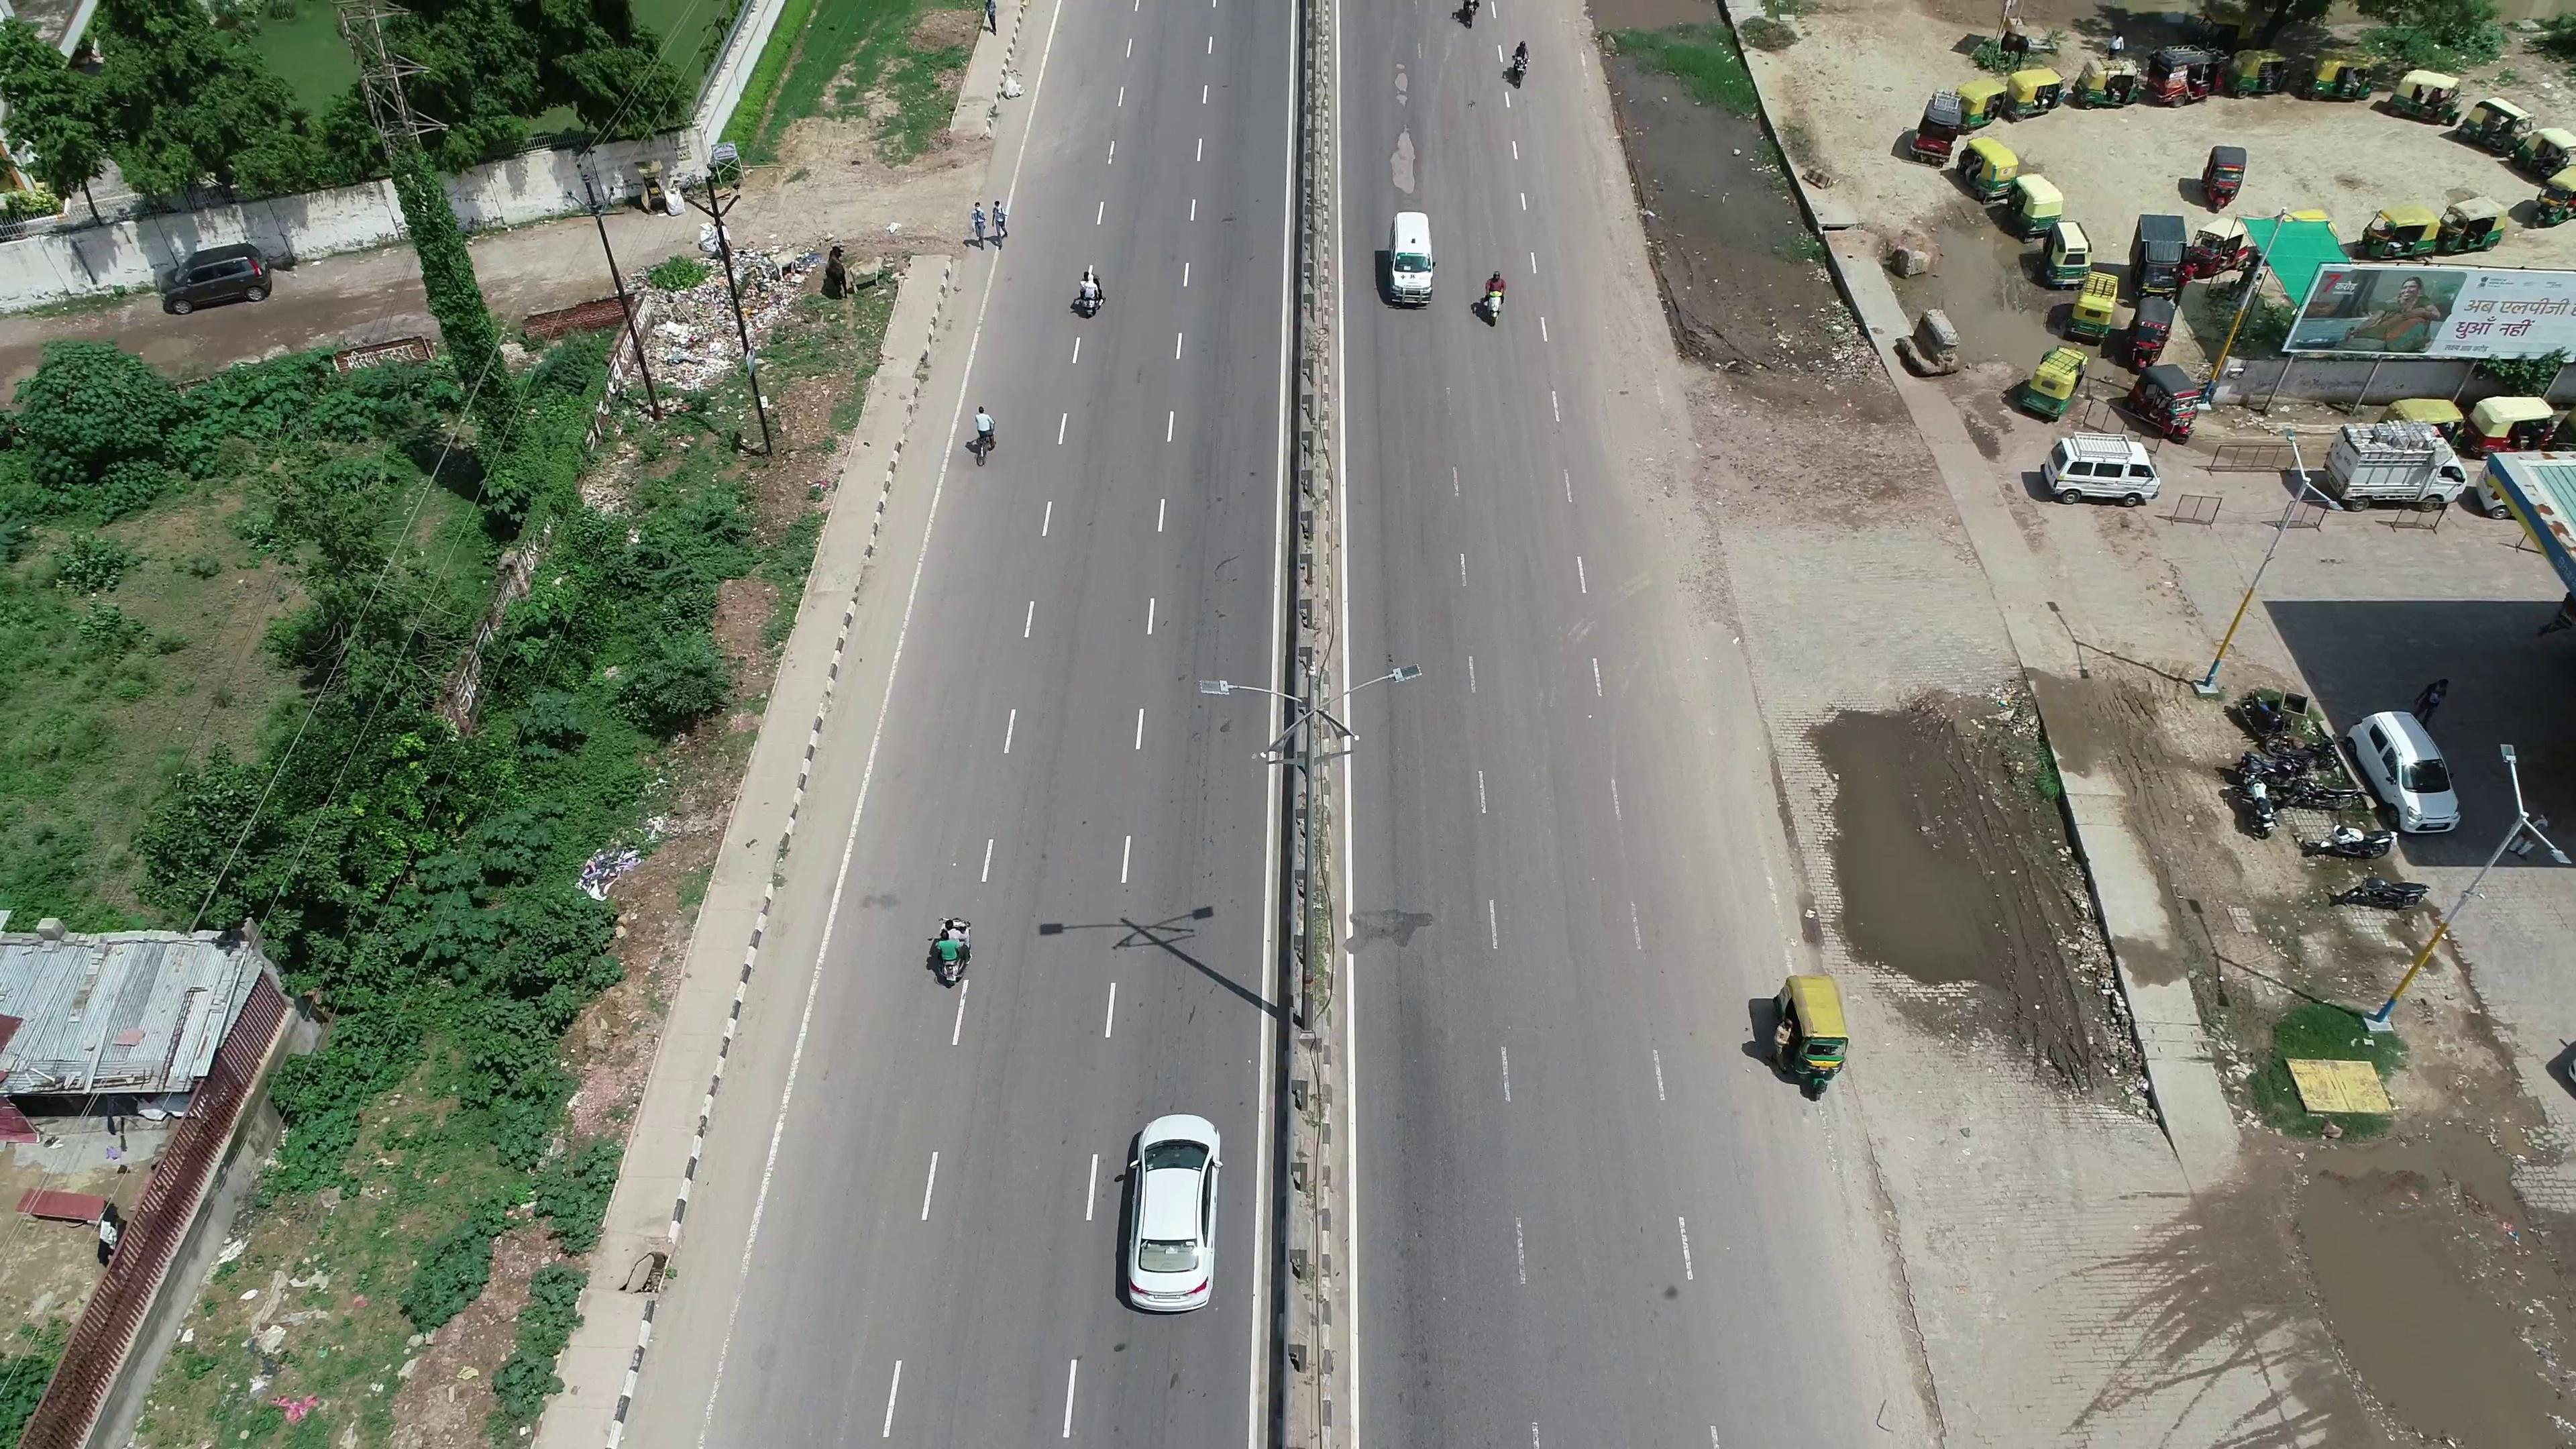Potholes: (1376, 39, 1426, 205)
